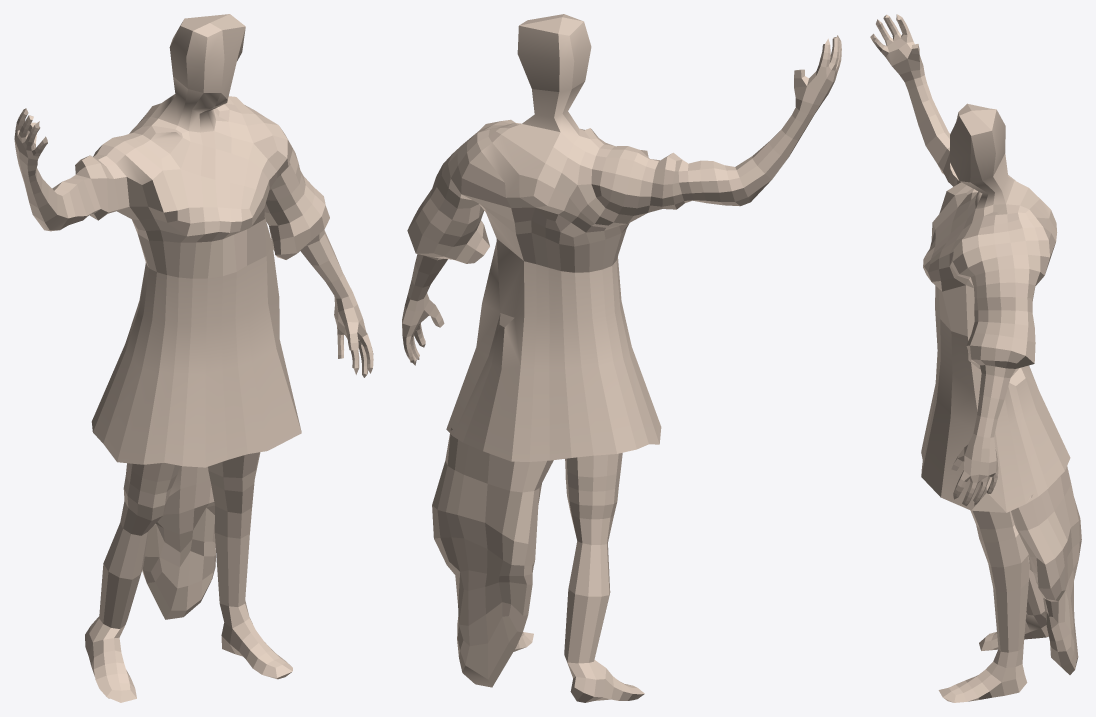
File: RomanGuyStatue.fbx
3 views of the same model, side by side, from view 1: azimuth 30°, elevation 25°; view 2: azimuth 150°, elevation 25°; view 3: azimuth 270°, elevation 25° (orthographic). The views are drawn at different scales.
Visible parts, largest first — view 1: humanBody-retopo 2; view 2: humanBody-retopo 2; view 3: humanBody-retopo 2.
Part boxes in pixels (bbox=[...]): humanBody-retopo 2: bbox=[14, 14, 373, 702]; humanBody-retopo 2: bbox=[402, 14, 841, 702]; humanBody-retopo 2: bbox=[870, 14, 1081, 702].
Size of the model in its own units: 113 by 185 by 61.96.
